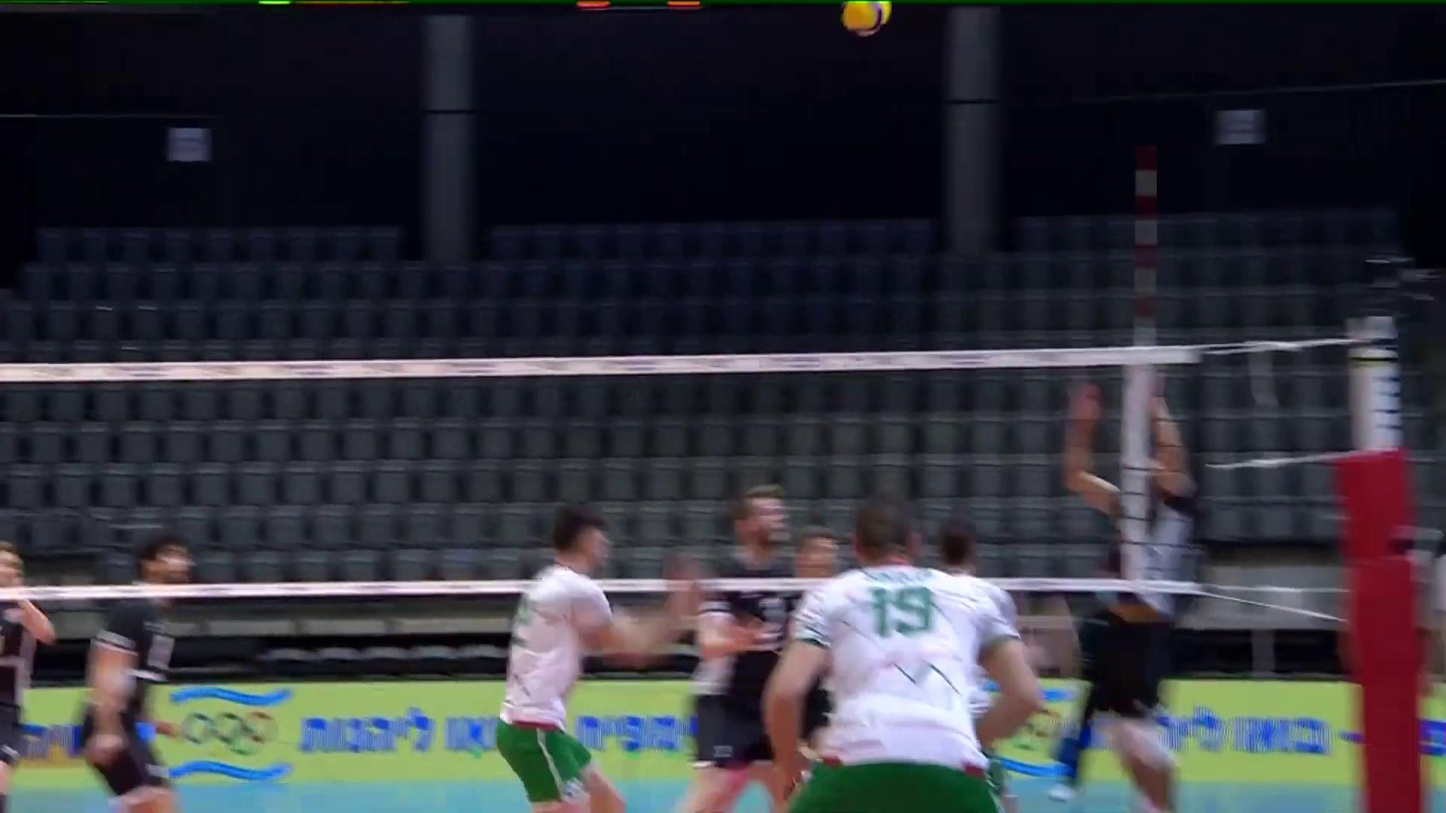ball: (828, 0, 900, 37)
